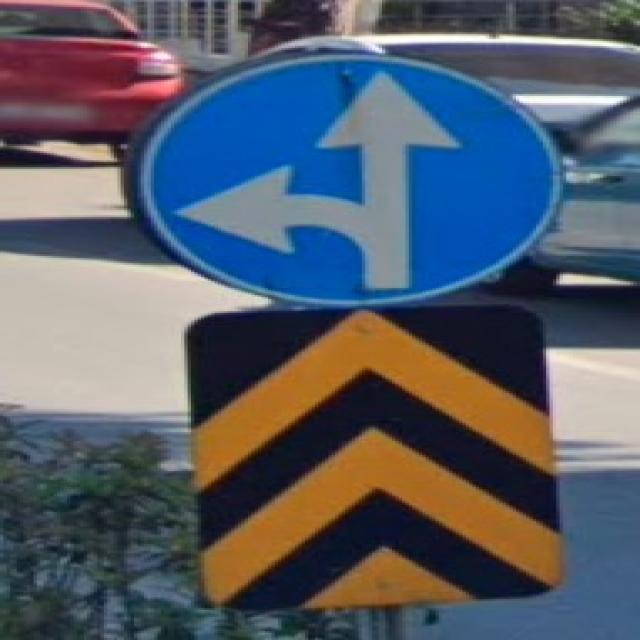Straight or Left: (142, 56, 561, 305)
